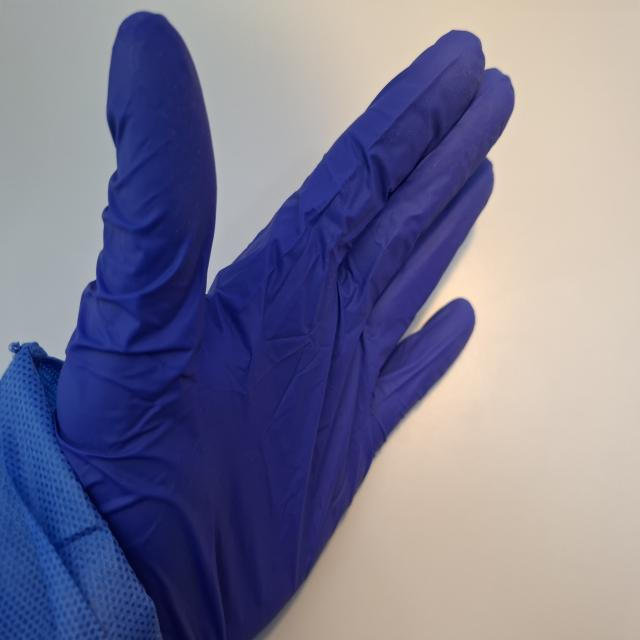glove_on: (48, 6, 517, 640)
